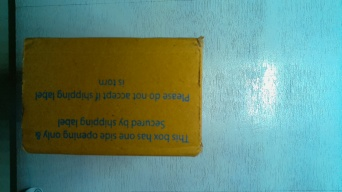a: (23, 37, 204, 158)
